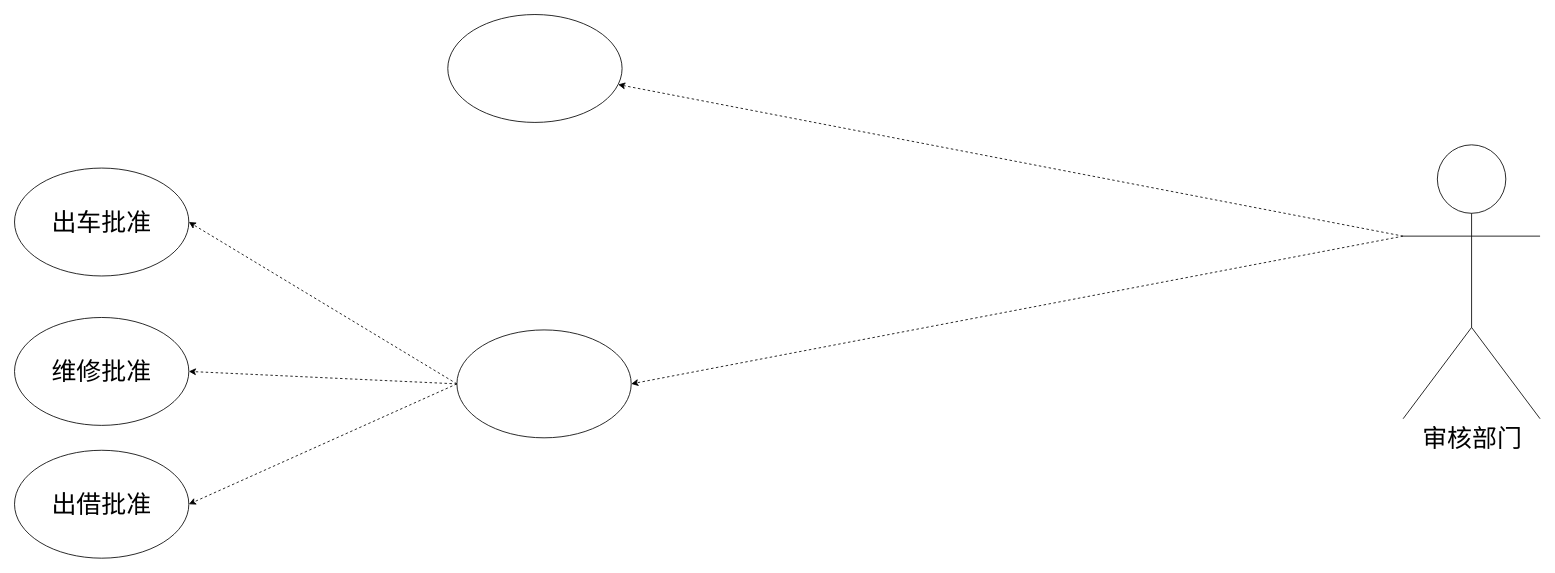
This 1555x573 diagram has some shape labels left out. The centre of each missing label's shape, as x and y in pixels:
业务批准: the point at 543,383
车辆状况查看: the point at 534,68
